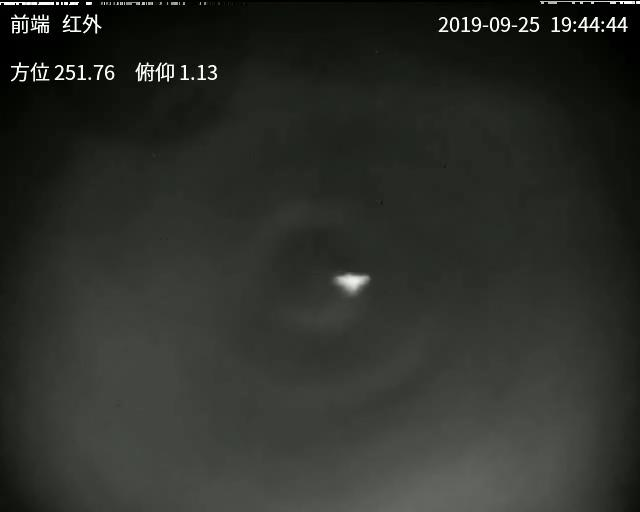uav: (327, 269, 369, 294)
